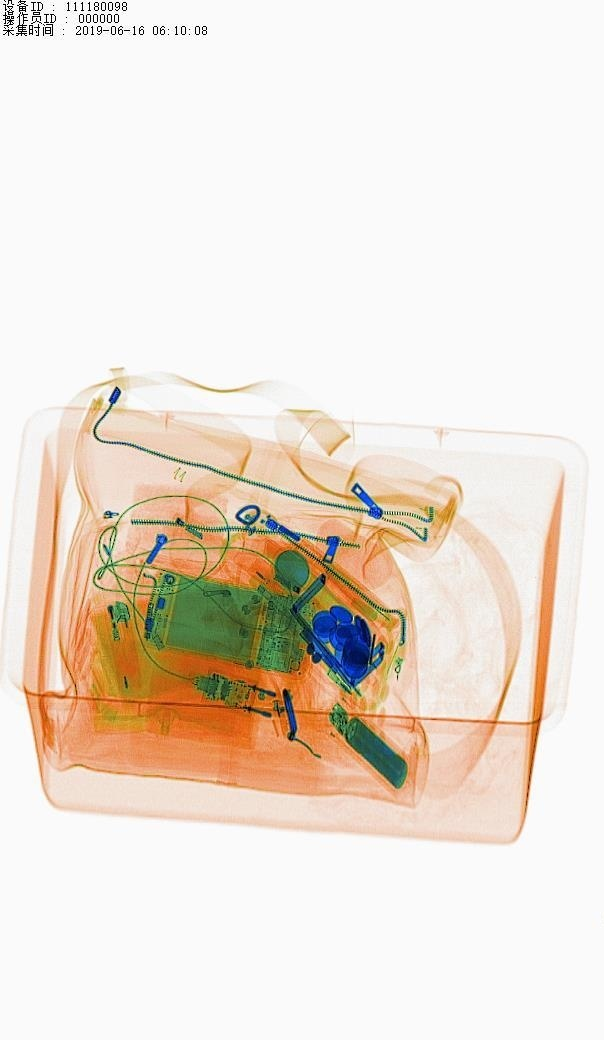NonmetallicFire: (93, 584, 156, 699)
